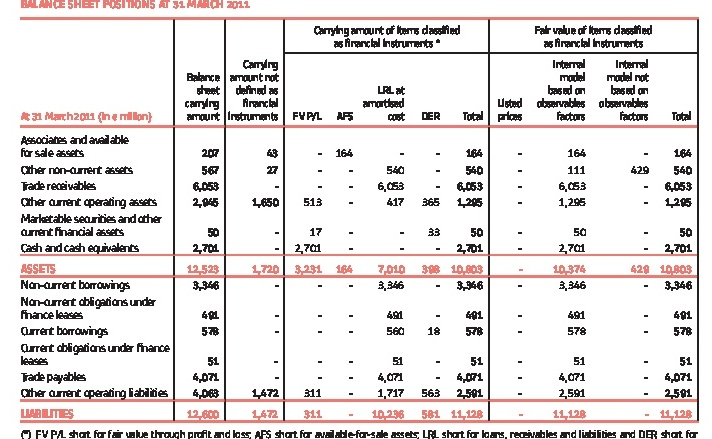table: (0, 0, 712, 439)
